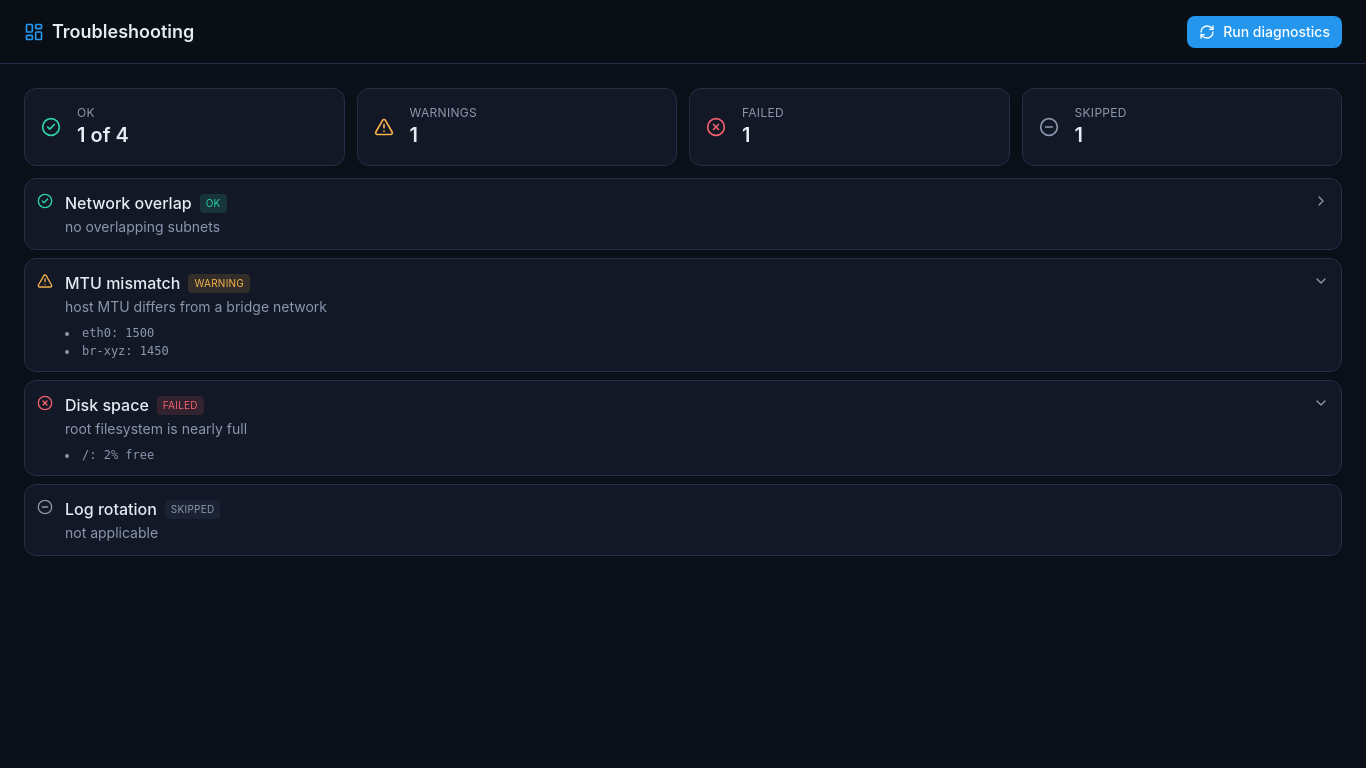
Test: Troubleshooting collapsible details › an ok check's details are collapsed by default, and expand on click
Expected: the element with class "font-medium" does not show "br-abc: 172.18.0.0/16"
Click the button "Network overlap OK no overlapping subnets".
click(128, 203)  # box [37,191,1329,237]
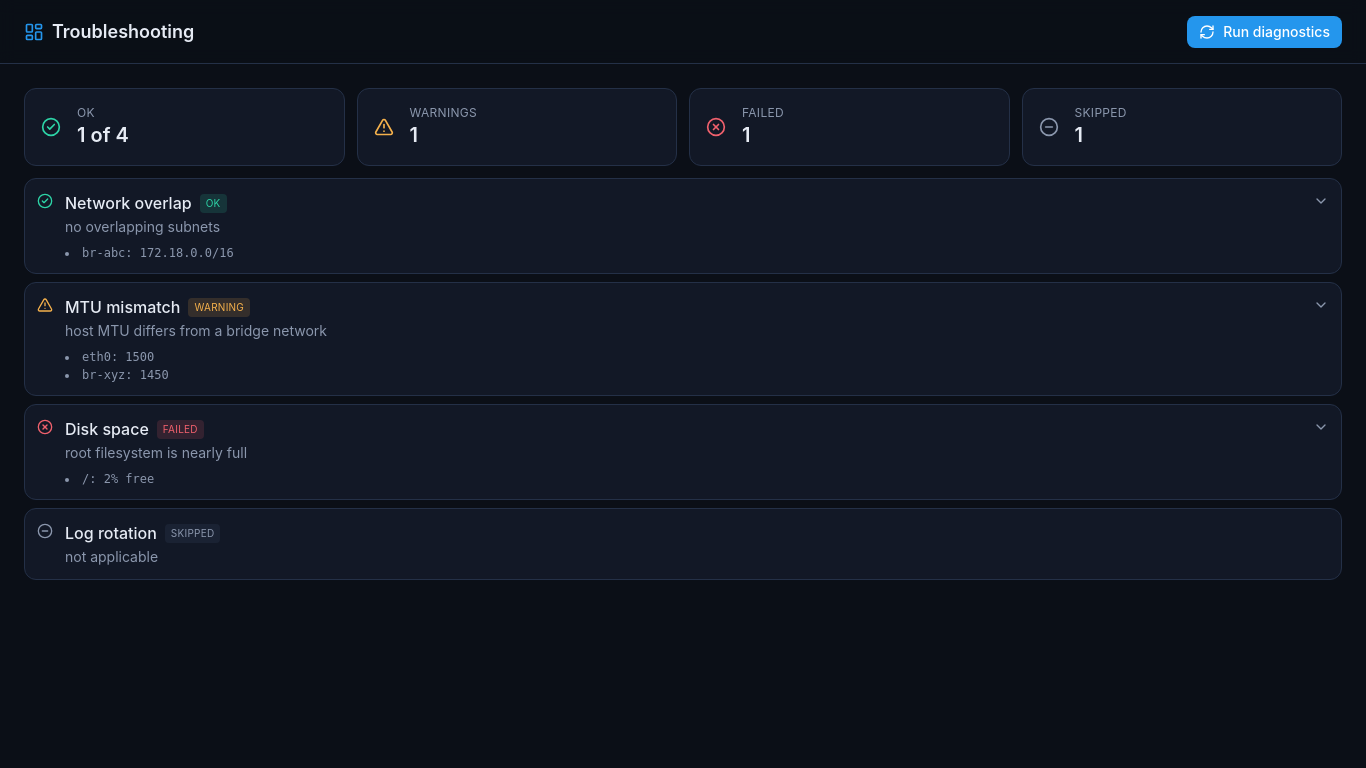
Now the element with class "font-medium" shows "br-abc: 172.18.0.0/16", box [82,246,234,260]
Now the button "Network overlap OK no overlapping subnets" is expanded, box [37,191,1329,237]
